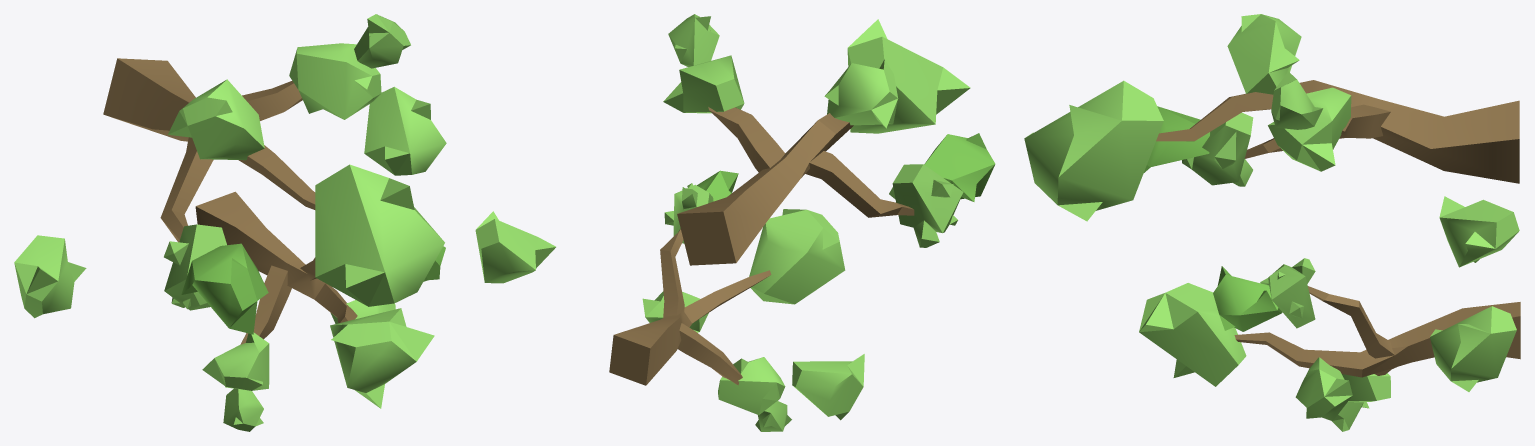
Rendered from trees1Small.glb.
The picture shows the model from 3 angles, left to right: view 1: azimuth 30°, elevation 25°; view 2: azimuth 150°, elevation 25°; view 3: azimuth 270°, elevation 25°; orthographic projection. The views are drawn at different scales.
Visible parts, largest first — view 1: BranchesCBranchesuBranchesbBrancheseBranches.Branches0Branc. (×11), Trunk.007, Trunk.021, BranchesCBranchesuBranchesbBrancheseBranchesBranch.007; view 2: BranchesCBranchesuBranchesbBrancheseBranches.Branches0Branc. (×12), Trunk.007, Trunk.021, BranchesCBranchesuBranchesbBrancheseBranchesBranch.007, BranchesCBranchesuBranchesbBrancheseBranchesBranch.021; view 3: BranchesCBranchesuBranchesbBrancheseBranches.Branches0Branc. (×12), Trunk.007, Trunk.021, BranchesCBranchesuBranchesbBrancheseBranchesBranch.007, BranchesCBranchesuBranchesbBrancheseBranchesBranch.021.
Part boxes in pixels (x1,y1,x2,y2): BranchesCBranchesuBranchesbBrancheseBranches.Branches0Branc. (×11): (14, 14, 446, 431); Trunk.007: (103, 58, 315, 242); Trunk.021: (195, 191, 357, 344); BranchesCBranchesuBranchesbBrancheseBranchesBranch.007: (164, 224, 226, 310); BranchesCBranchesuBranchesbBrancheseBranches.Branches0Branc. (×12): (475, 14, 995, 431); Trunk.007: (677, 107, 914, 265); Trunk.021: (609, 229, 771, 385); BranchesCBranchesuBranchesbBrancheseBranchesBranch.007: (889, 164, 963, 247); BranchesCBranchesuBranchesbBrancheseBranchesBranch.021: (664, 183, 713, 243); BranchesCBranchesuBranchesbBrancheseBranches.Branches0Branc. (×12): (1024, 14, 1519, 431); Trunk.007: (1156, 80, 1519, 183); Trunk.021: (1234, 286, 1520, 377); BranchesCBranchesuBranchesbBrancheseBranchesBranch.007: (1182, 112, 1253, 186); BranchesCBranchesuBranchesbBrancheseBranchesBranch.021: (1260, 258, 1315, 328).
Size of what is drawn, in the model's own units: 1.34 by 1.26 by 1.42.
